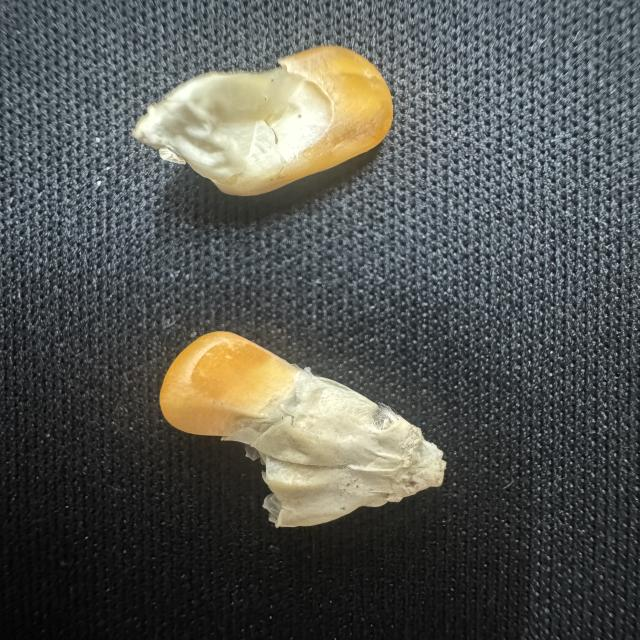Bad-Seed: (149, 321, 463, 535), (132, 37, 410, 205)
